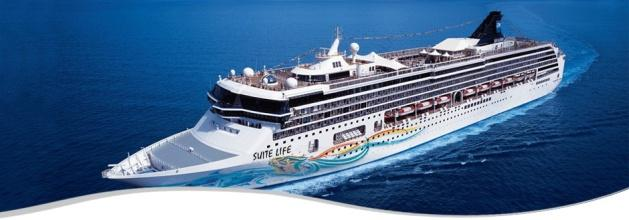youlun: (107, 9, 572, 189)
